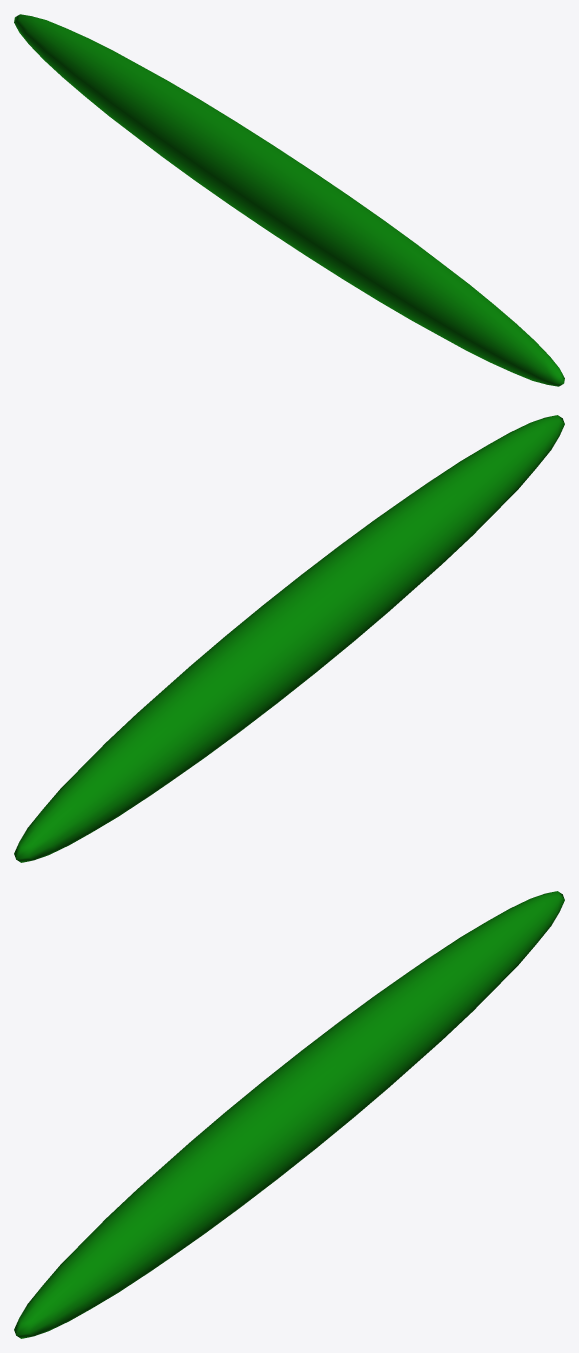
Rendered from keyframe_m.DAE.
The picture shows the model from 3 angles, top to bottom: view 1: azimuth 30°, elevation 25°; view 2: azimuth 150°, elevation 25°; view 3: azimuth 330°, elevation 25°; orthographic projection. The views are drawn at different scales.
Parts seen in each view (by area): view 1: Sphere01; view 2: Sphere01; view 3: Sphere01.
Part boxes in pixels (x1,y1,x2,y2): Sphere01: (14, 14, 564, 386); Sphere01: (14, 415, 564, 862); Sphere01: (14, 891, 564, 1338).
Size of the model in its own units: 5.45 by 65.32 by 4.76.
